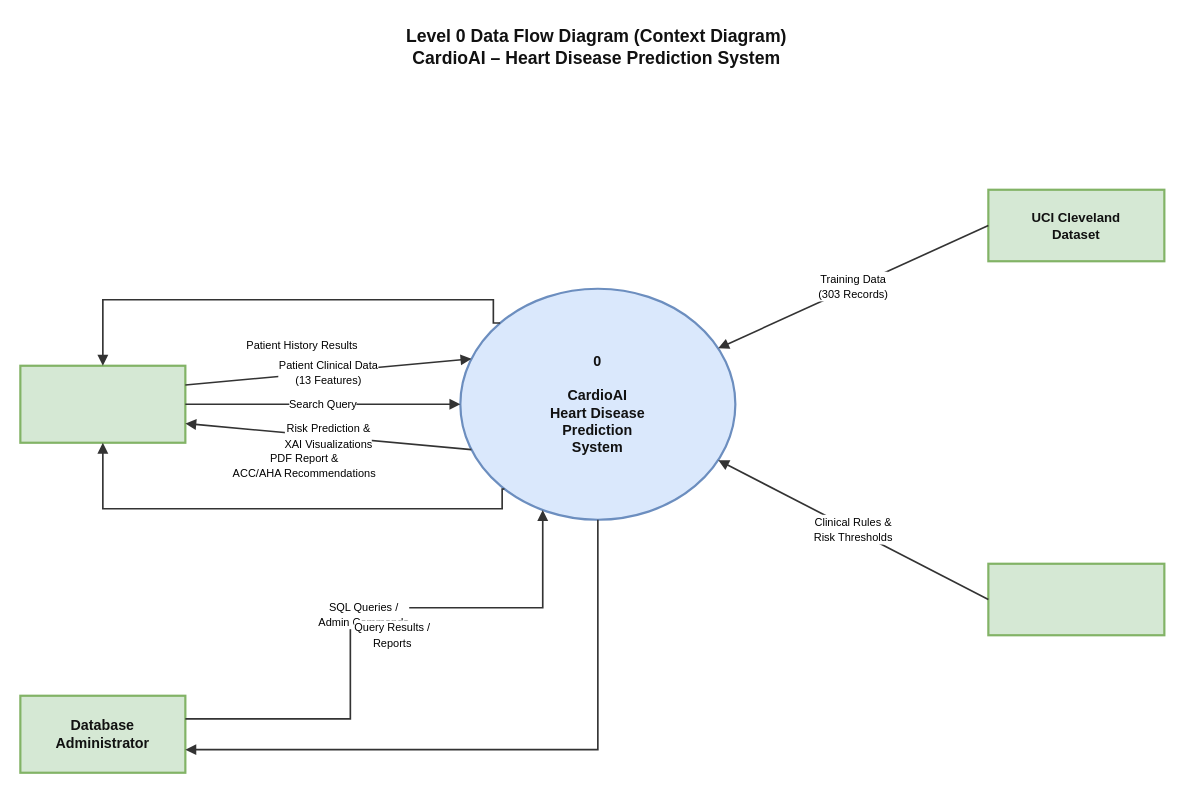
This 1184x792 diagram has some shape labels left out. Here are the shapes that lost their labels. From the top down, the centre of each, then its label:
At (x=102, y=403): "Clinician".
At (x=1076, y=599): "ACC/AHA Clinical Guidelines".
